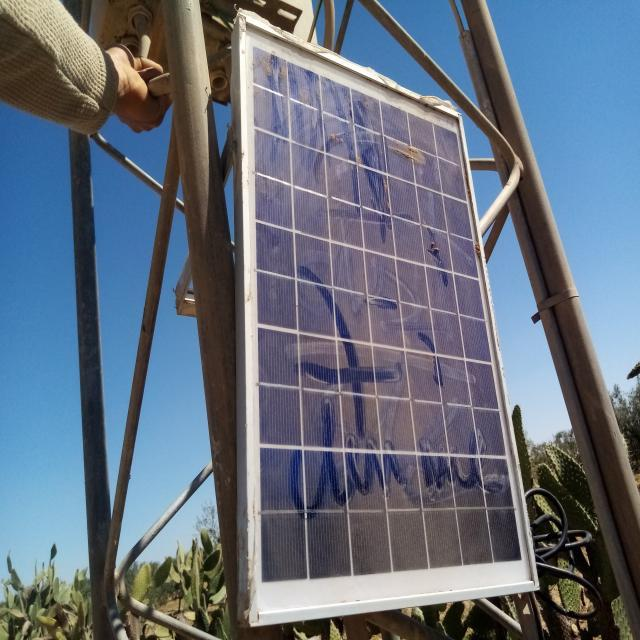faulty: (241, 11, 536, 618)
